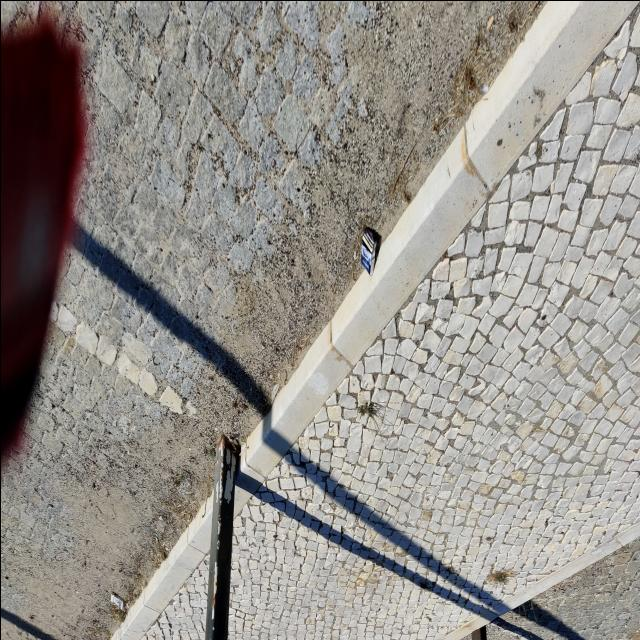Cigarette: (485, 16, 493, 32), (155, 536, 157, 544), (353, 251, 355, 258)
Other carton: (360, 225, 375, 274), (109, 592, 123, 609)
